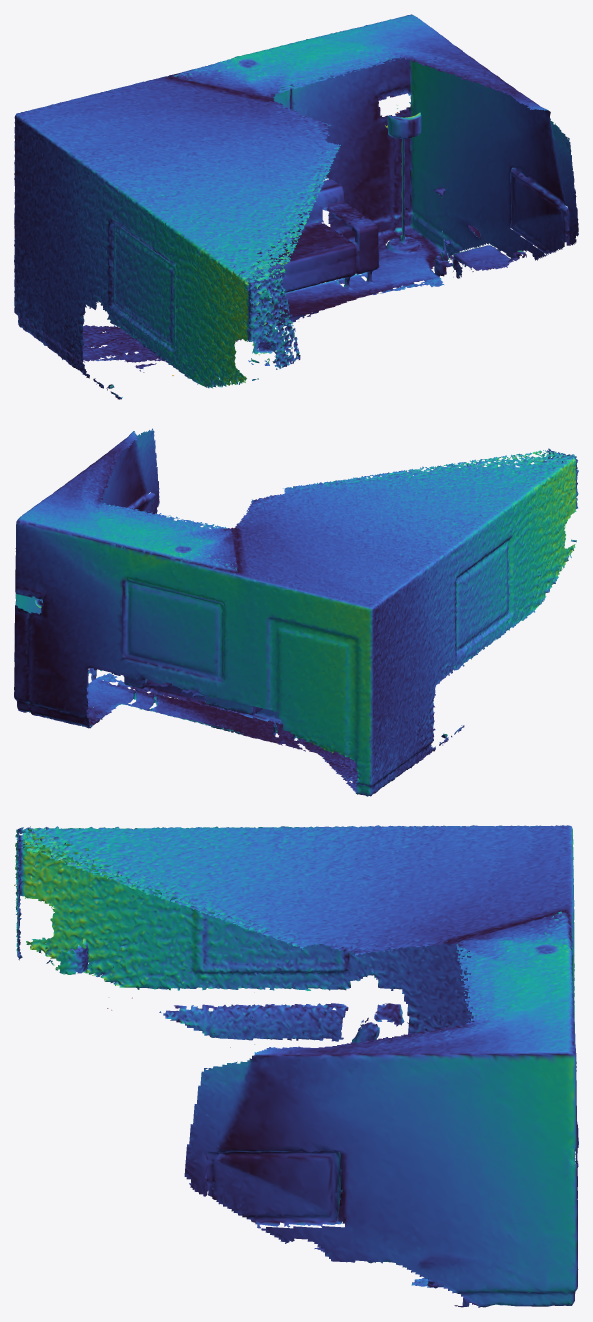
The model's file is tsdf_estimated_error.glb.
3 views of the same model, one above another, from view 1: azimuth 30°, elevation 25°; view 2: azimuth 150°, elevation 25°; view 3: azimuth 270°, elevation 25° (orthographic). The views are drawn at different scales.
Bounding box in the file's own units: 4.95 × 2.57 × 5.05.
